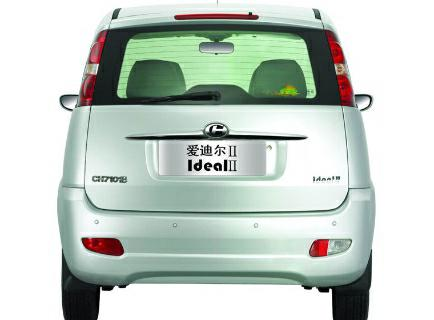昌河-爱迪尔: (46, 2, 387, 320)
